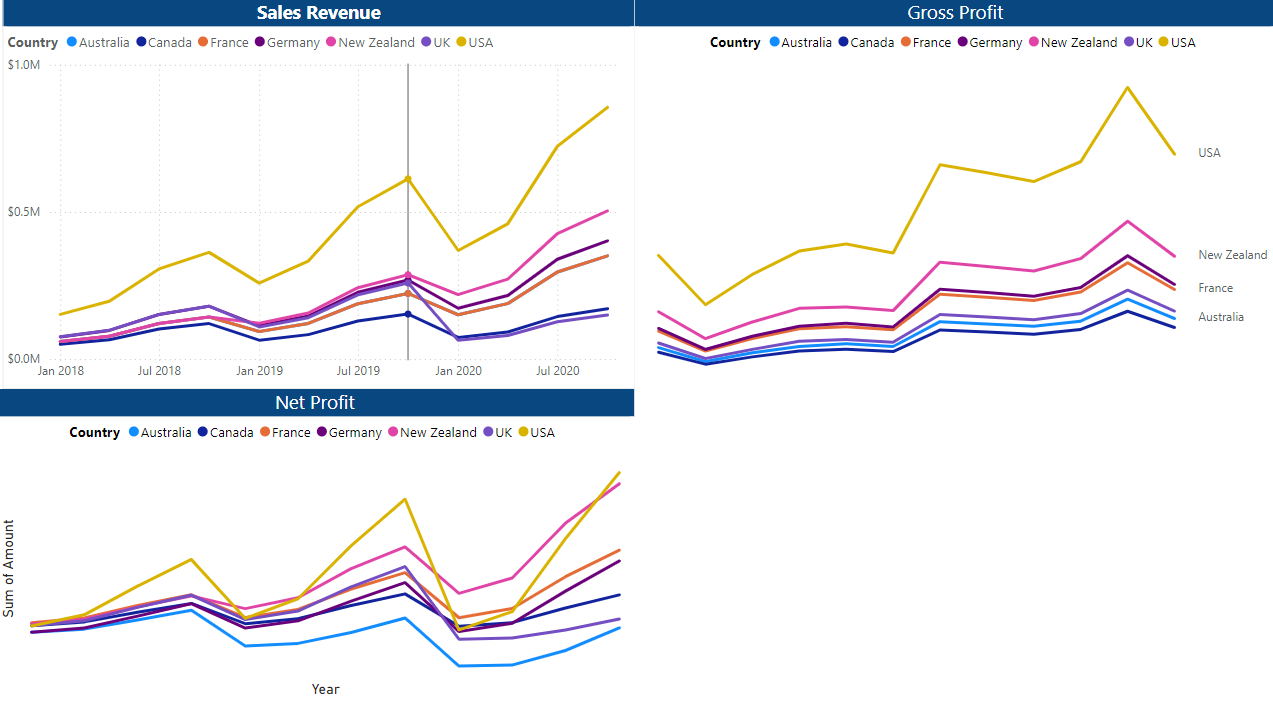

Layout of this report page (visuals, bound fields, positions):
{"tool":"powerbi","page":{"name":"Cross Country","canvas":[1280,720],"ordinal":1},"visuals":[{"type":"lineChart","title":"Sales Revenue","fields":{"Y":["Sum(tbl_GL.Amount)"],"Category":["tbl_Calendar.Date.Variation.Date Hierarchy.Year","tbl_Calendar.Date.Variation.Date Hierarchy.Quarter","tbl_Calendar.Date.Variation.Date Hierarchy.Month","tbl_Calendar.Date.Variation.Date Hierarchy.Day"],"Series":["tbl_Territory.Country"]},"box":[7.3,0,632.2,390.1],"z":0},{"type":"lineChart","title":"Gross Profit","fields":{"Y":["Sum(tbl_GL.Amount)"],"Category":["tbl_Calendar.Date.Variation.Date Hierarchy.Year","tbl_Calendar.Date.Variation.Date Hierarchy.Quarter","tbl_Calendar.Date.Variation.Date Hierarchy.Month","tbl_Calendar.Date.Variation.Date Hierarchy.Day"],"Series":["tbl_Territory.Country"]},"box":[639.5,0,640.8,390.1],"z":1000},{"type":"lineChart","title":"Net Profit","fields":{"Y":["Sum(tbl_GL.Amount)"],"Category":["tbl_Calendar.Date.Variation.Date Hierarchy.Year","tbl_Calendar.Date.Variation.Date Hierarchy.Quarter","tbl_Calendar.Date.Variation.Date Hierarchy.Month","tbl_Calendar.Date.Variation.Date Hierarchy.Day"],"Series":["tbl_Territory.Country"]},"box":[0,390.1,639.5,313],"z":2000}]}

Visuals, with their boxes in screenshot pixels (x1, y1, x2, y2), scaled from the page's 1280x720 canvas onto the 1273x713 screenshot:
"Sales Revenue" lineChart: (x1=7, y1=0, x2=636, y2=386)
"Gross Profit" lineChart: (x1=636, y1=0, x2=1272, y2=386)
"Net Profit" lineChart: (x1=0, y1=386, x2=636, y2=696)
